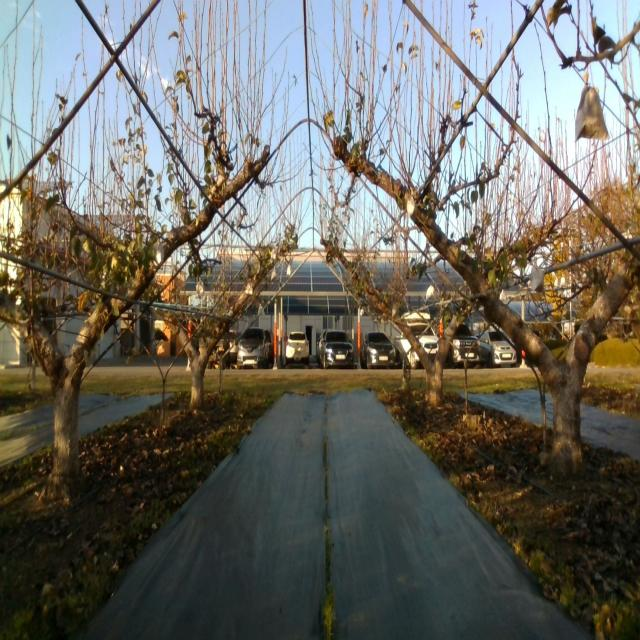pearbags: (575, 86, 611, 142), (530, 267, 545, 292)
